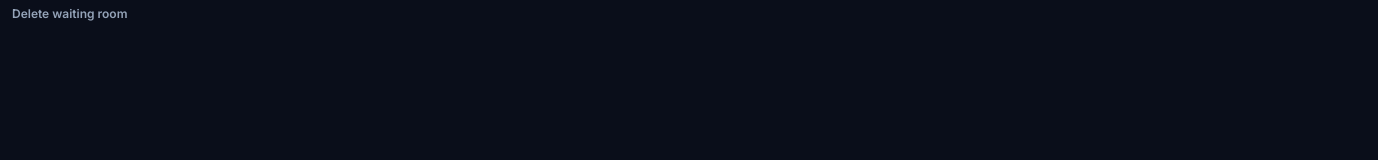
it: DeleteRoomButton › can cancel the delete confirmation
Click the button with test id "open-delete-room-confirmation" at (70, 14), box [12,6,128,22]
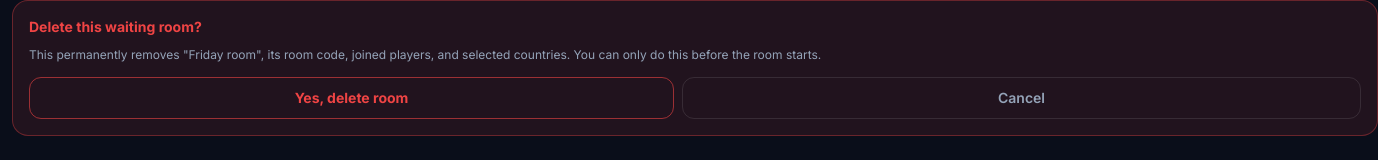
Click the button "Cancel" at (1022, 98), box [682,76,1361,118]
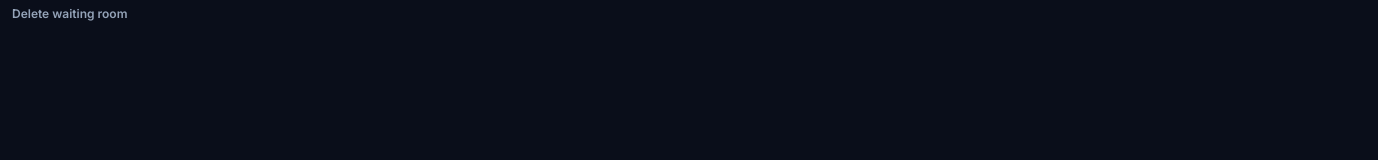
Result: the message with test id "delete-room-confirmation" is gone
Result: the button with test id "open-delete-room-confirmation" is shown at [12,6,128,22]
